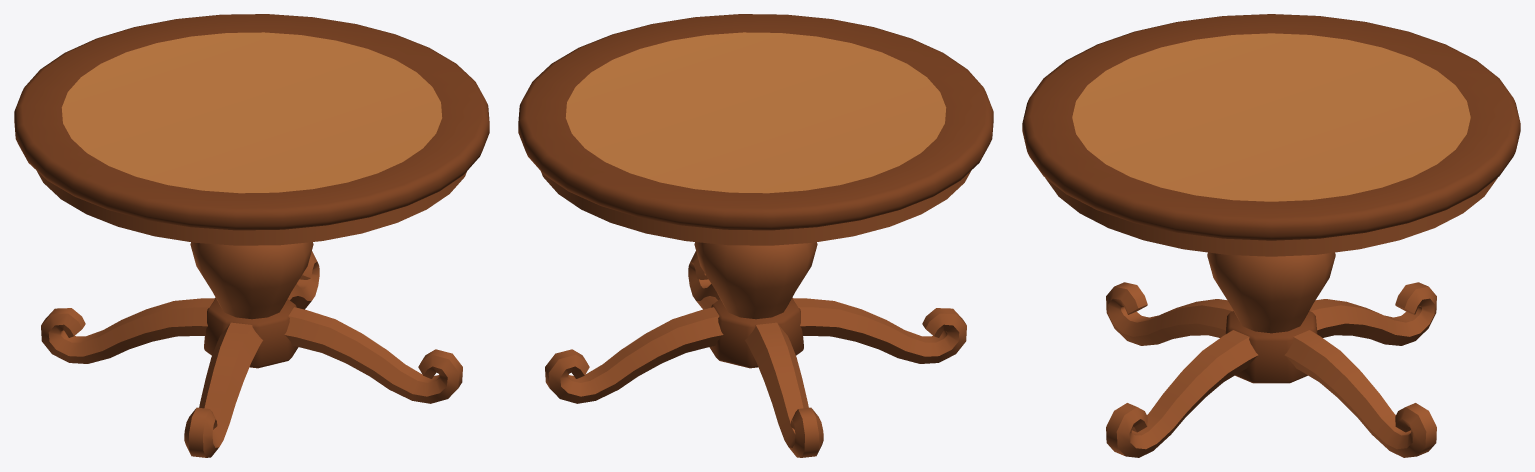
Rendered from FairTable.fbx.
3 views of the same model, side by side, from view 1: azimuth 30°, elevation 25°; view 2: azimuth 150°, elevation 25°; view 3: azimuth 270°, elevation 25° (orthographic). The views are drawn at different scales.
Parts seen in each view (by area): view 1: FairTable; view 2: FairTable; view 3: FairTable.
Part boxes in pixels (x1=…): FairTable: x1=14, y1=14, x2=489, y2=457; FairTable: x1=518, y1=14, x2=993, y2=457; FairTable: x1=1022, y1=14, x2=1520, y2=457.
Bounding box in the file's own units: 120 × 74.66 × 120.
